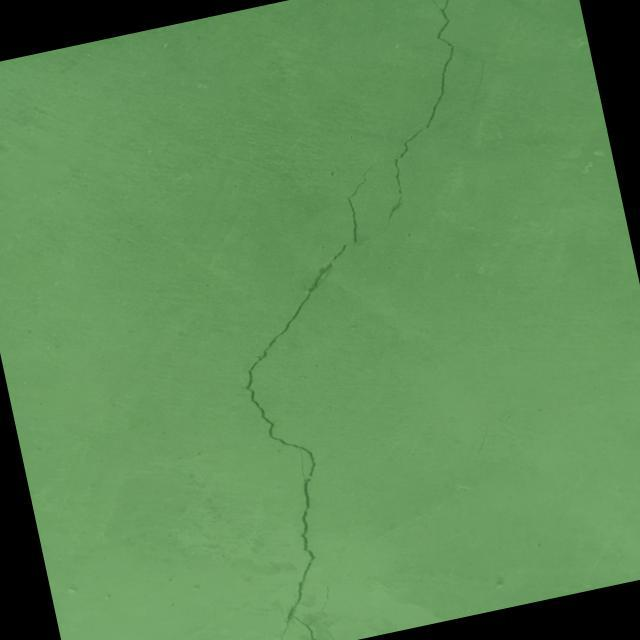crack: (181, 161, 474, 640), (332, 0, 517, 233)
